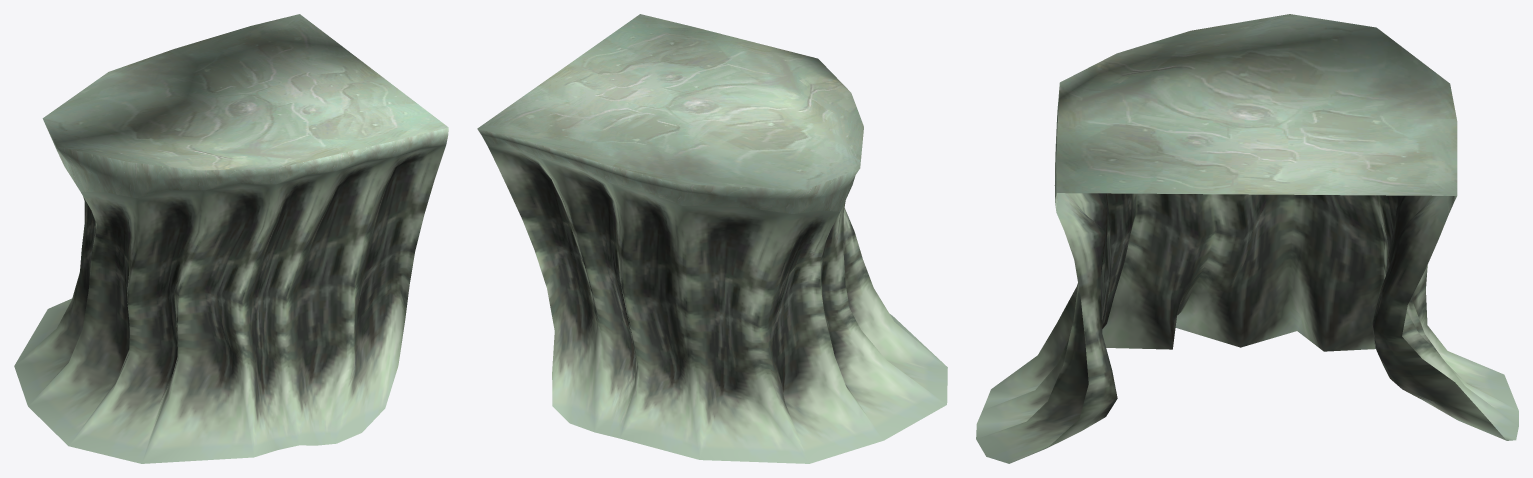
File: TROLLHOLE02_MAINCAVEPLATFORM01.fbx
3 renders of one model, left to right at view 1: azimuth 30°, elevation 25°; view 2: azimuth 150°, elevation 25°; view 3: azimuth 270°, elevation 25°, orthographic. The views are drawn at different scales.
Parts seen in each view (by area): view 1: TROLLHOLE02_MAINCAVEPLATFORM01; view 2: TROLLHOLE02_MAINCAVEPLATFORM01; view 3: TROLLHOLE02_MAINCAVEPLATFORM01.
Part boxes in pixels (x1,y1,x2,y2): TROLLHOLE02_MAINCAVEPLATFORM01: (14,14,448,463); TROLLHOLE02_MAINCAVEPLATFORM01: (477,14,947,463); TROLLHOLE02_MAINCAVEPLATFORM01: (976,14,1518,463).
Bounding box in the file's own units: 71468 × 52894 × 74965.
Materials: 2 (2 with a texture image).
